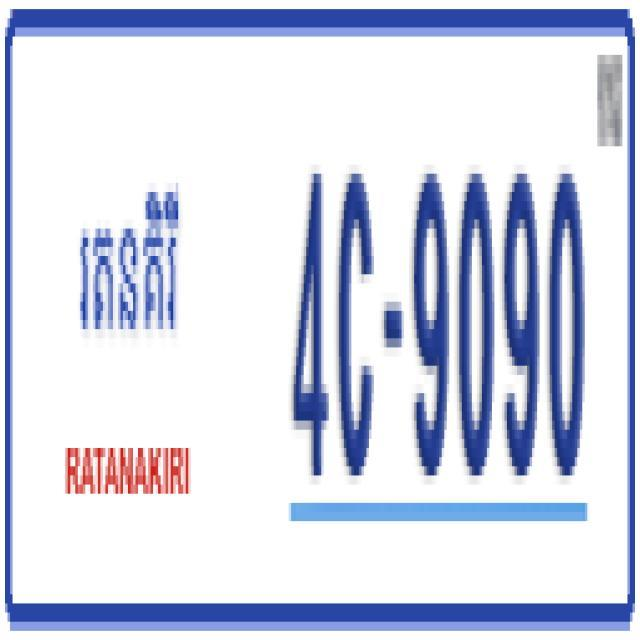Ratanakiri: (78, 164, 181, 357)
